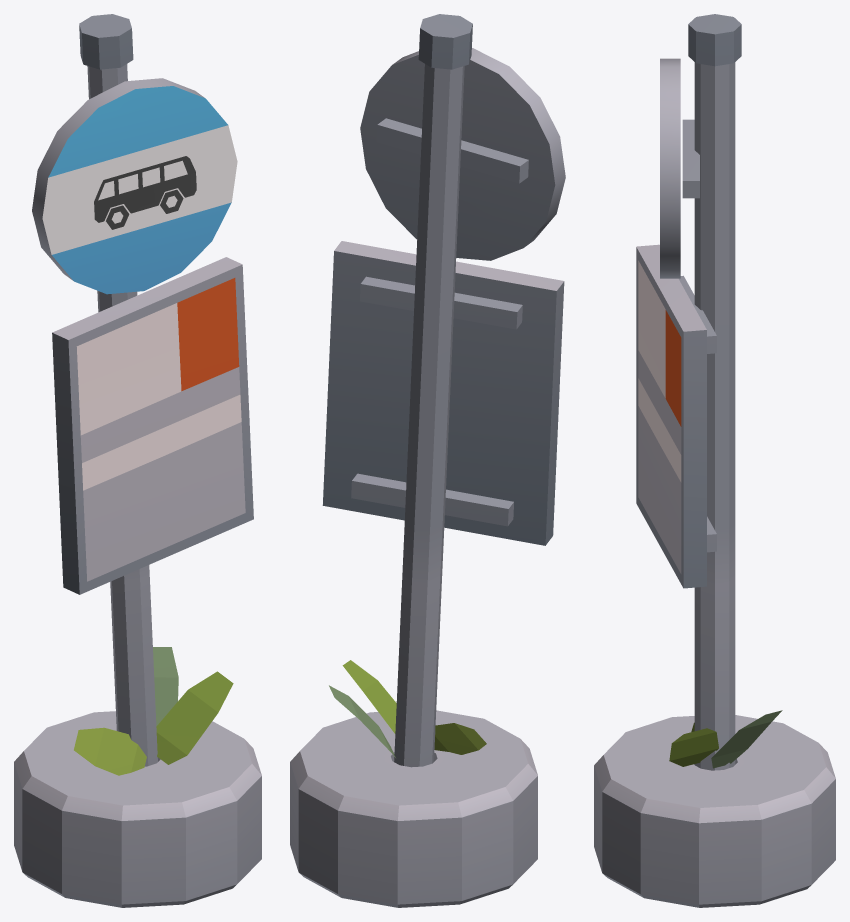
The model's file is Infra_busStopSign_mdl.fbx.
3 renders of one model, left to right at view 1: azimuth 30°, elevation 25°; view 2: azimuth 150°, elevation 25°; view 3: azimuth 270°, elevation 25°, orthographic. The views are drawn at different scales.
Visible parts, largest first — view 1: busStopSign_mesh; view 2: busStopSign_mesh; view 3: busStopSign_mesh.
Boxes of the visible parts, x1=… form: busStopSign_mesh: x1=14, y1=14, x2=261, y2=907; busStopSign_mesh: x1=290, y1=14, x2=565, y2=907; busStopSign_mesh: x1=594, y1=14, x2=835, y2=907.
Size of the model in its own units: 69.06 by 240 by 64.2.
